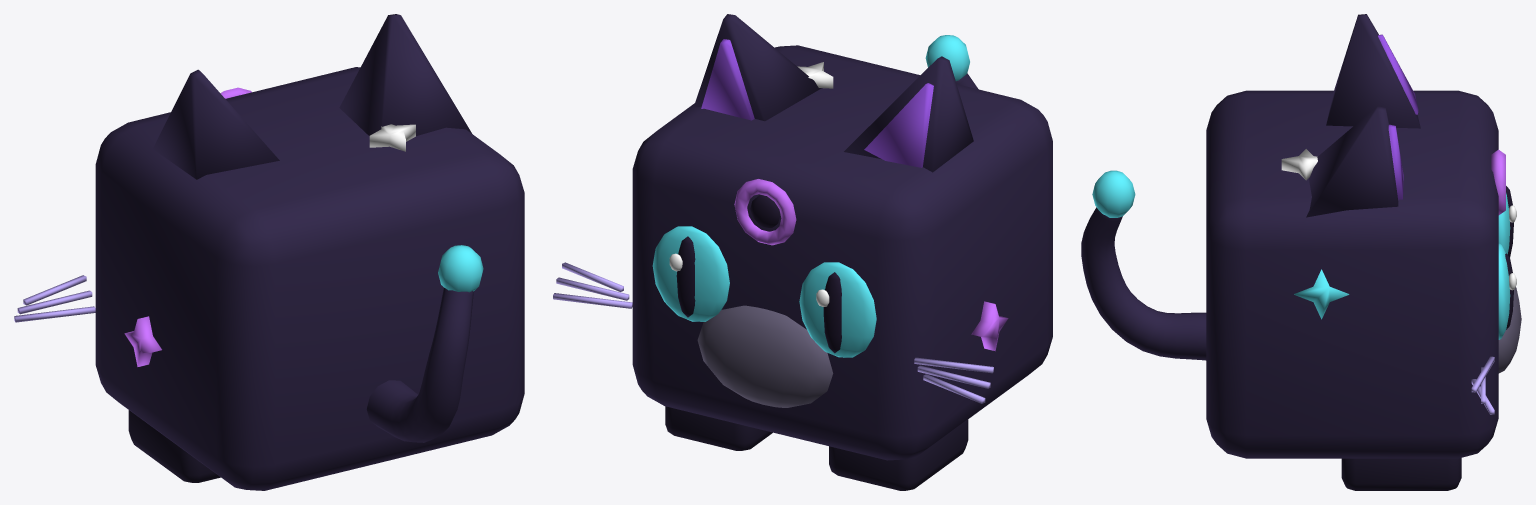
File: pet_voidcat.fbx
3 renders of one model, left to right at view 1: azimuth 30°, elevation 25°; view 2: azimuth 150°, elevation 25°; view 3: azimuth 270°, elevation 25°, orthographic. The views are drawn at different scales.
Visible parts, largest first — view 1: pet_voidcat; view 2: pet_voidcat; view 3: pet_voidcat.
Part boxes in pixels (x1,y1,x2,y2): pet_voidcat: [14, 14, 524, 490]; pet_voidcat: [553, 14, 1052, 490]; pet_voidcat: [1081, 14, 1521, 490].
Bounding box in the file's own units: 3.06 × 2.7 × 2.86.
1 material, 1 textured.
